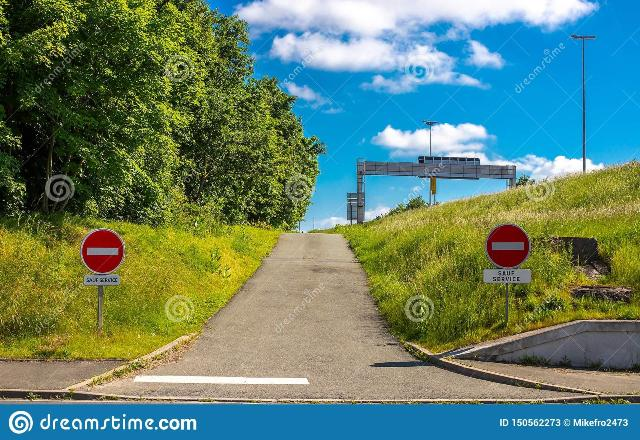B2: (79, 228, 125, 274), (485, 223, 531, 269)
